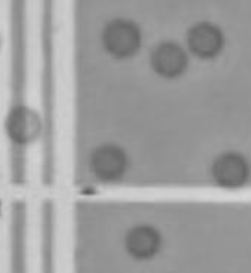cell: (96, 13, 145, 63), (1, 100, 48, 148), (85, 140, 133, 185), (209, 146, 251, 195), (147, 36, 190, 82), (122, 219, 166, 263), (183, 18, 225, 61)
